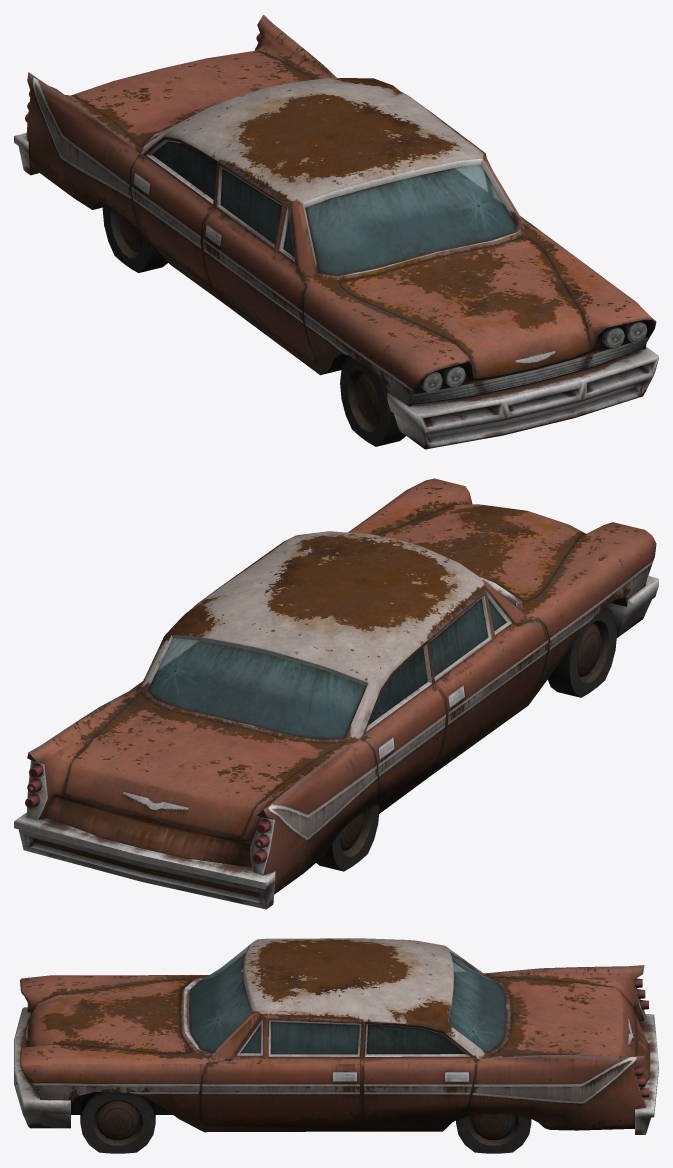
File: old_rusty_car_2.glb
The picture shows the model from 3 angles, top to bottom: view 1: azimuth 30°, elevation 25°; view 2: azimuth 150°, elevation 25°; view 3: azimuth 270°, elevation 25°; orthographic projection. The views are drawn at different scales.
Parts seen in each view (by area): view 1: Object001_Material #37_0, Object002_Material #33_0; view 2: Object001_Material #37_0, Object002_Material #33_0; view 3: Object001_Material #37_0, Object002_Material #33_0.
Boxes of the visible parts, bbox=[...] form: Object001_Material #37_0: bbox=[14, 15, 658, 449]; Object002_Material #33_0: bbox=[152, 134, 516, 275]; Object001_Material #37_0: bbox=[14, 478, 658, 909]; Object002_Material #33_0: bbox=[148, 592, 515, 739]; Object001_Material #37_0: bbox=[14, 938, 658, 1153]; Object002_Material #33_0: bbox=[189, 952, 506, 1054].
Size of the model in its own units: 2.45 by 1.71 by 6.86.
2 materials, 2 textured.
